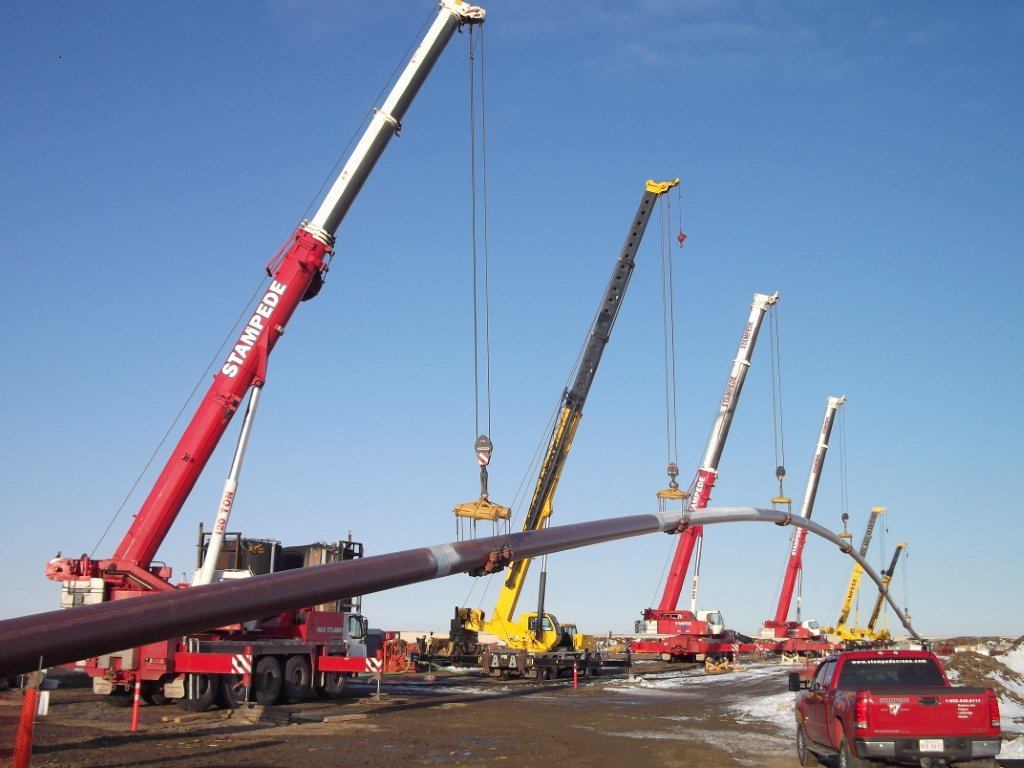crane: (58, 1, 482, 706), (454, 169, 678, 683), (620, 293, 785, 669), (758, 390, 848, 654), (829, 499, 888, 652), (856, 544, 917, 651)
